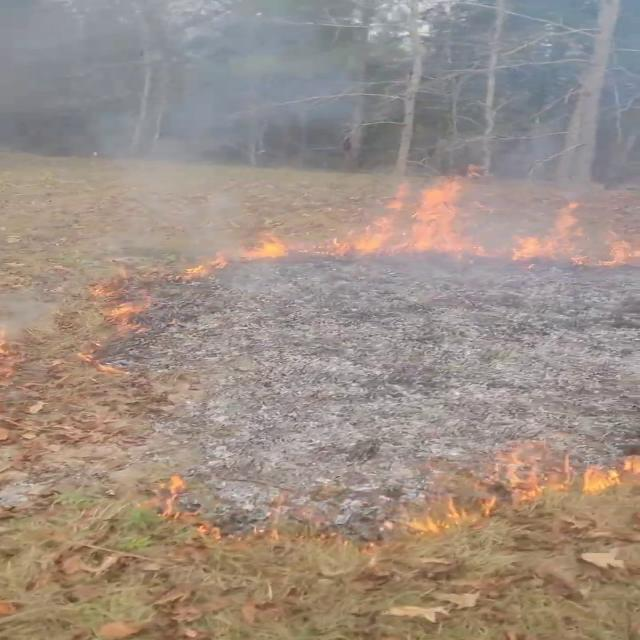Fire: (338, 166, 486, 260), (512, 197, 592, 266), (242, 233, 296, 263)
Smoke: (10, 0, 640, 218)
